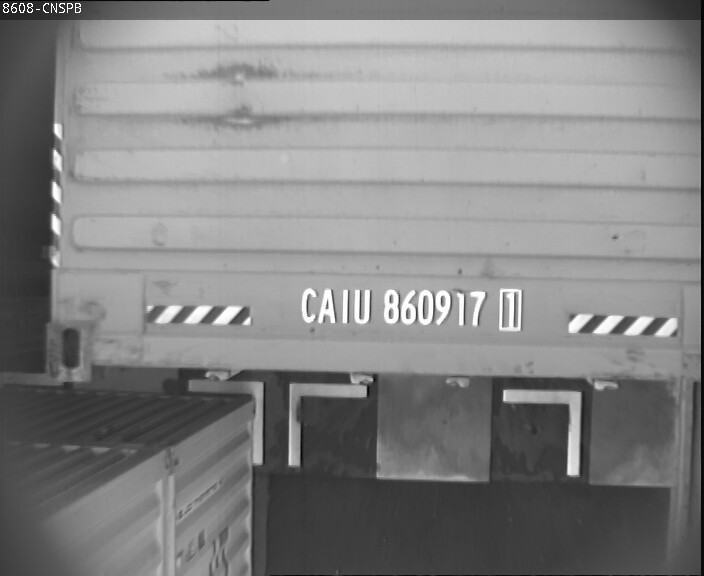groundmarker_1: (186, 378, 365, 467)
